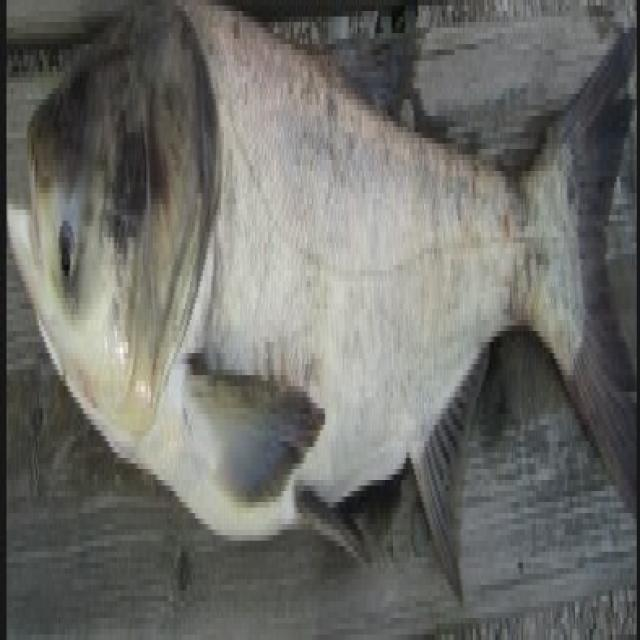Big-Head-Carp: (6, 7, 630, 603)
